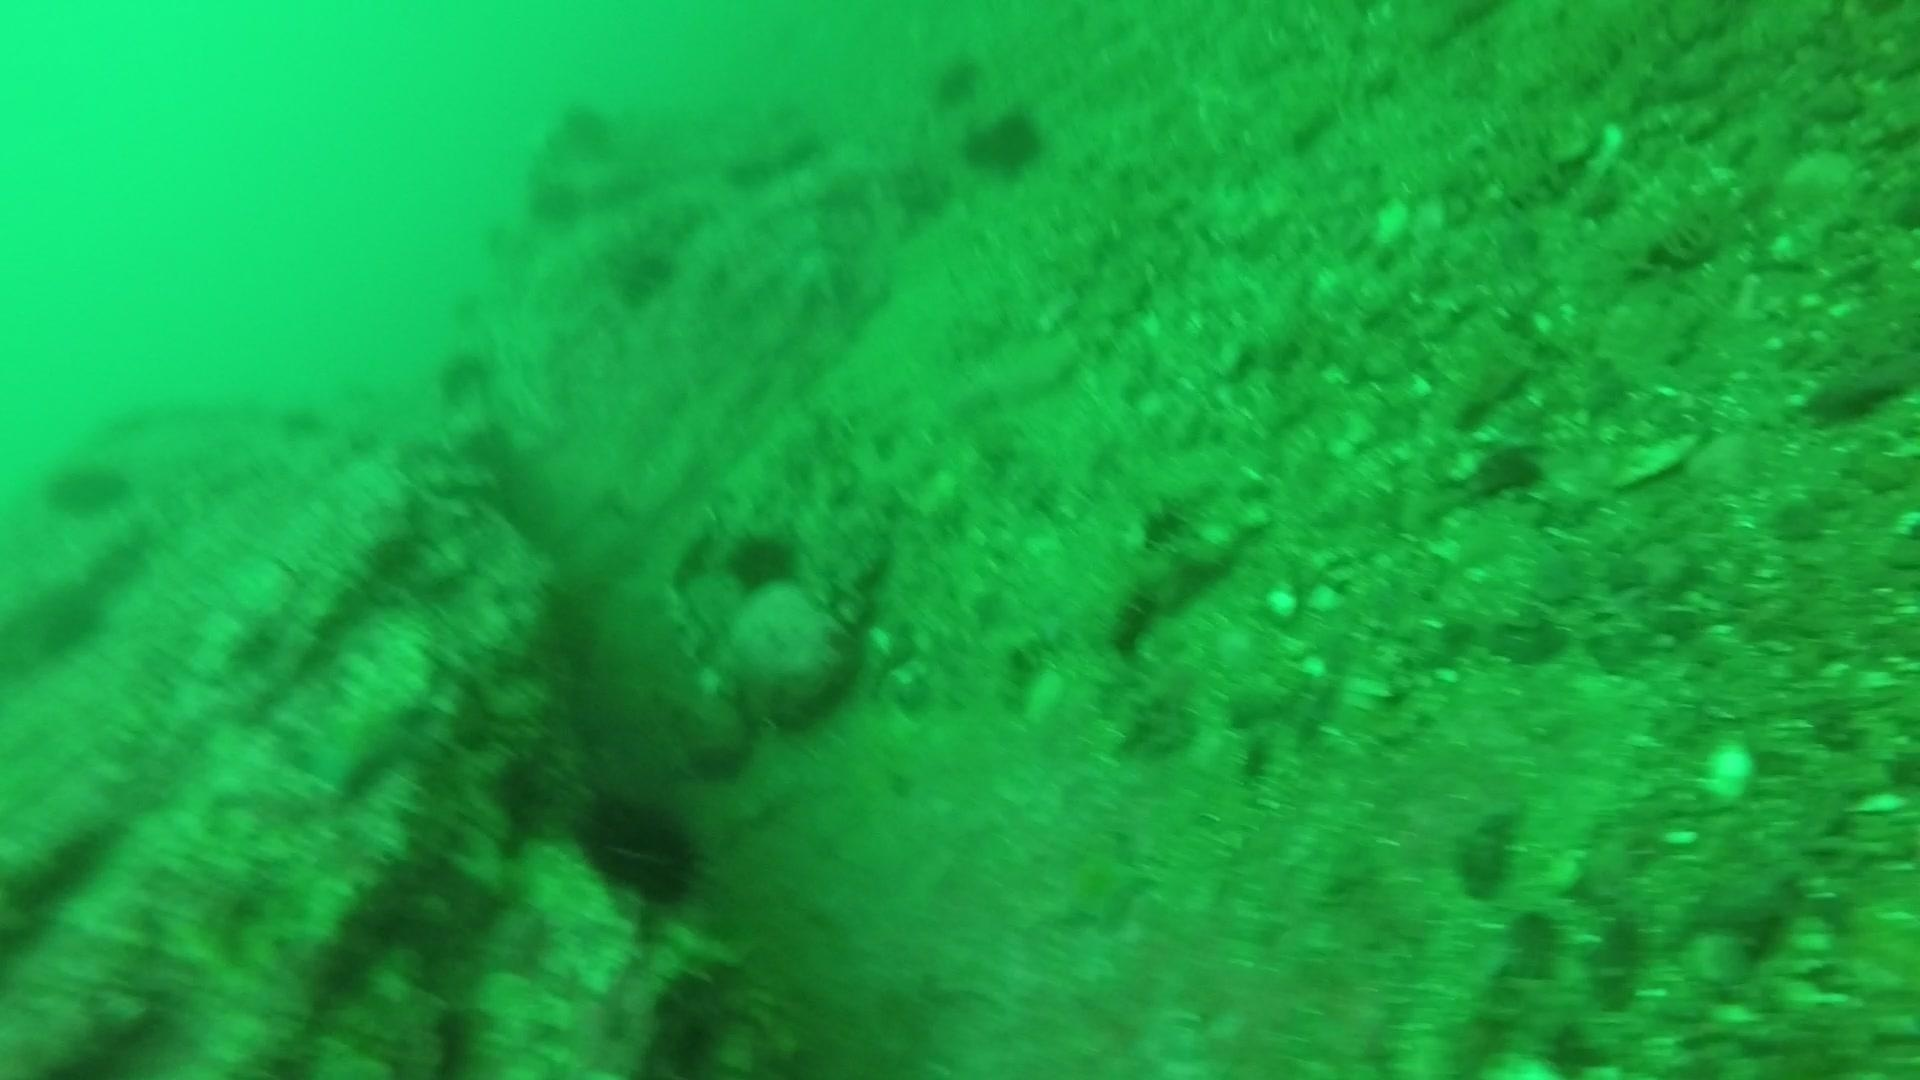echinus: (571, 785, 709, 913), (15, 575, 109, 669), (960, 102, 1052, 182), (717, 520, 807, 600), (40, 448, 135, 524), (600, 228, 682, 311), (431, 342, 501, 409), (549, 95, 621, 160), (522, 171, 589, 232), (924, 49, 986, 111), (720, 142, 770, 200), (781, 123, 831, 181)
starfish: (280, 618, 454, 800), (1040, 829, 1158, 934)
